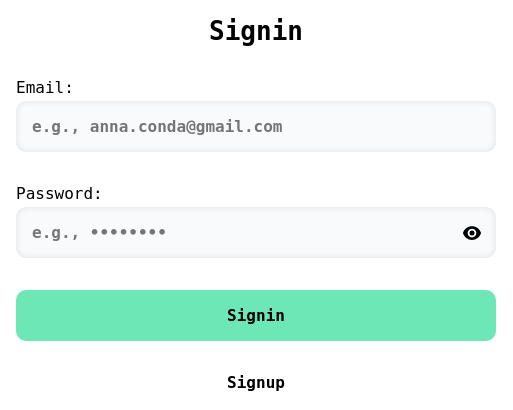
Test case: Signin › changes authentication page state on click
expect the heading reads "Signin": met, box [209,16,303,46]
Click the button "Signup".
click(256, 382)  # box [227,373,285,392]
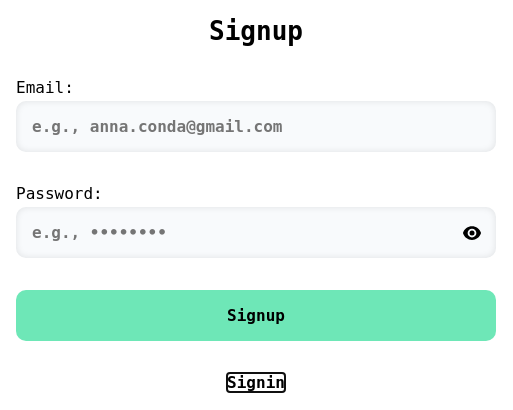
expect the heading reads "Signup": met, box [209,16,303,46]
